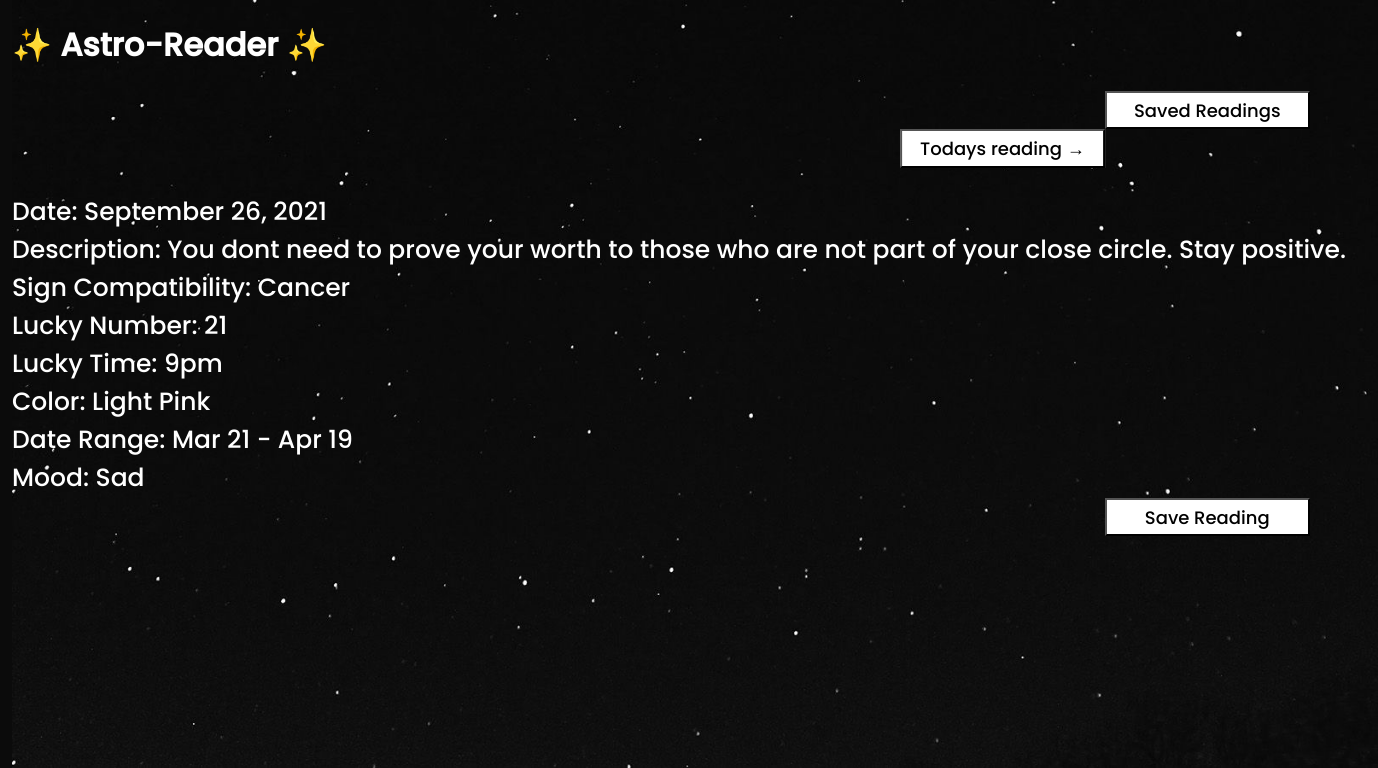
Users Zodiac Horoscope Reading Pages › Show todays reading › Should be able to click todays button and display todays reading again for the selected Zodiac
Click the button with class "today-btn1". click: (1003, 148)
box: x1=900 y1=129 x2=1105 y2=167
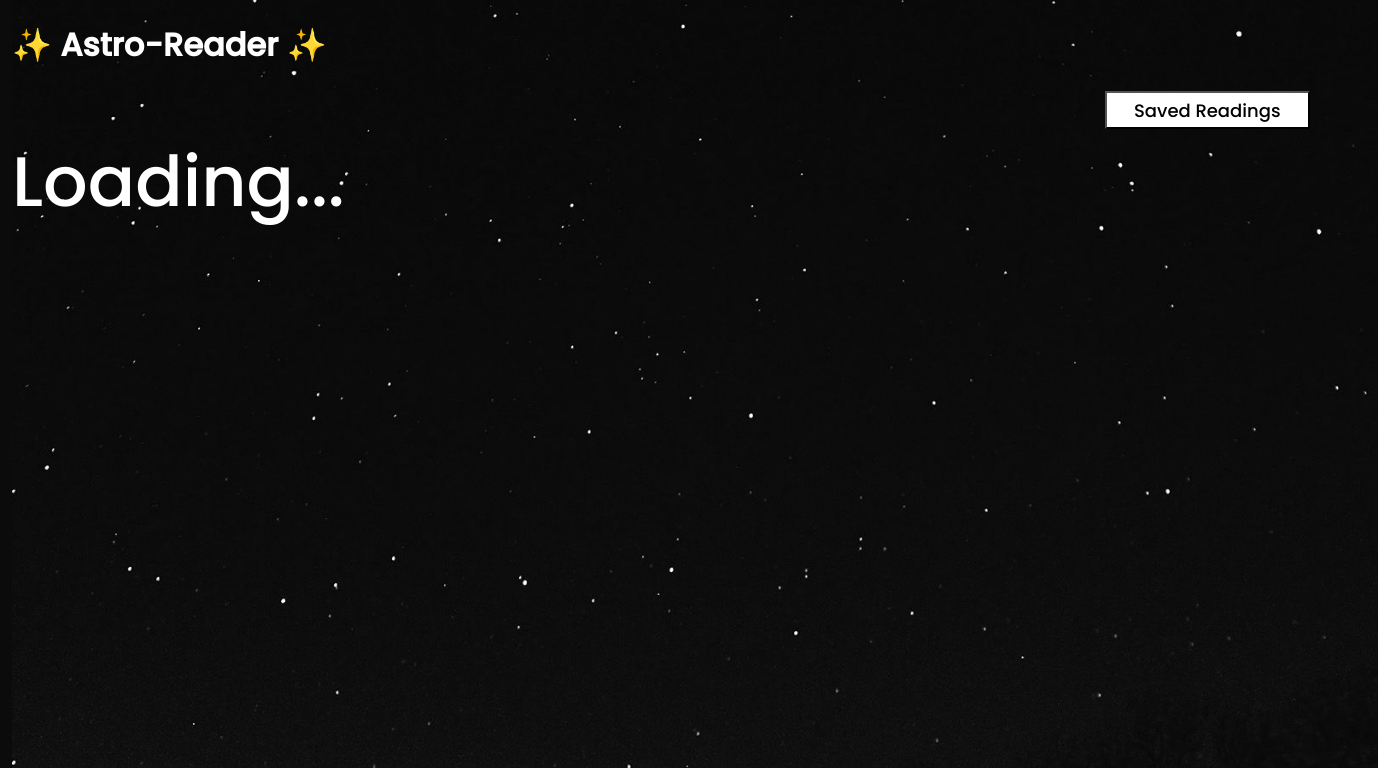
Open "http://localhost:3000/astro-reader/reading/today/aries"
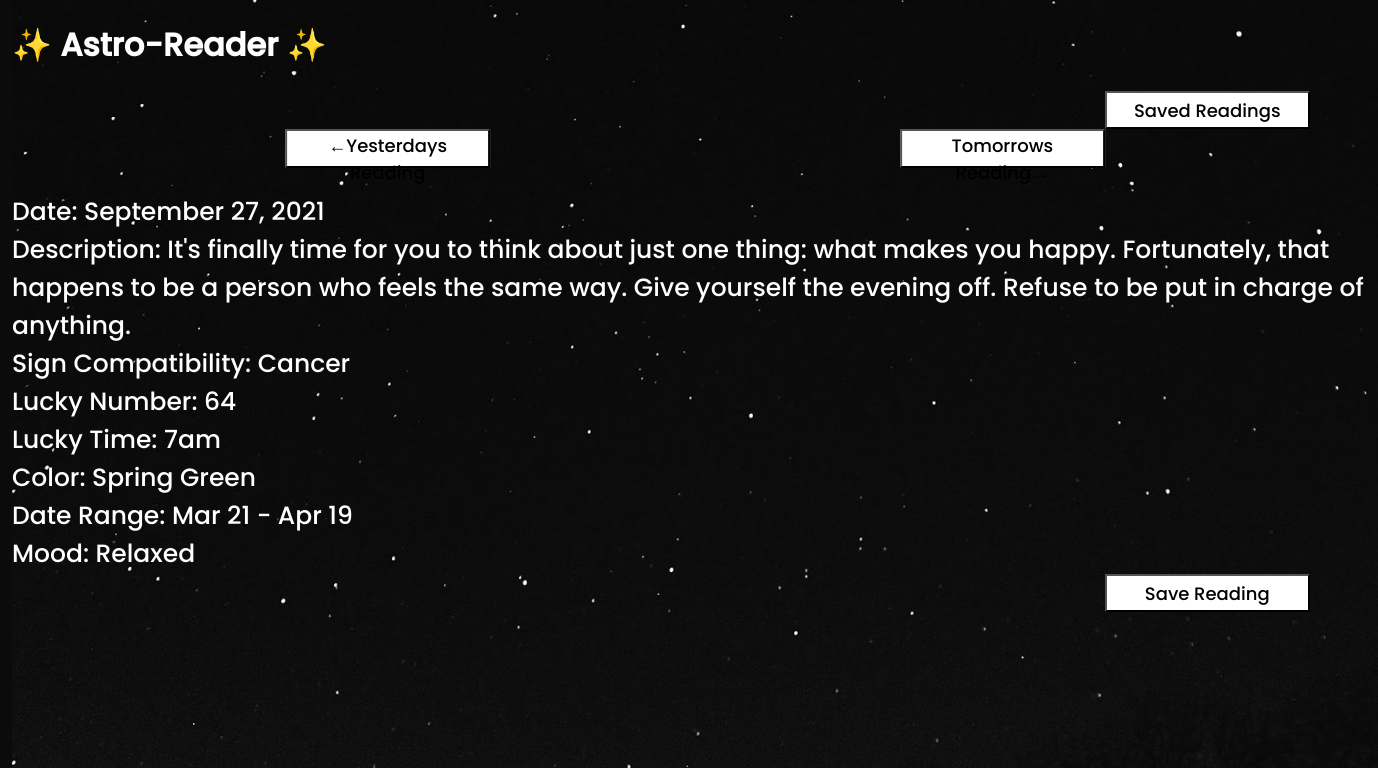
Expected: the element with class "reading-card" shows "Date: September 27, 2021", x1=12 y1=154 x2=1377 y2=612
Expected: the element with class "reading-card" shows "Description: It's finally time for you to think about just one thing: what makes you happy. Fortunately, that happens to be a person who feels the same way. Giv", x1=12 y1=154 x2=1377 y2=612
